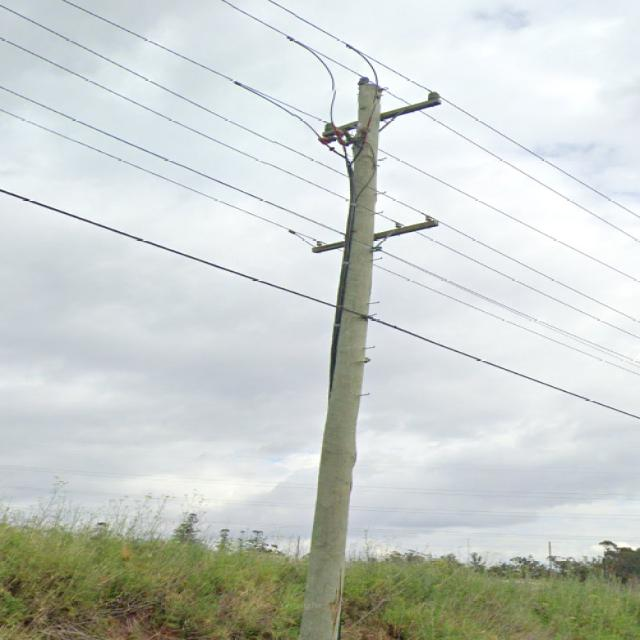HV-transmission: (318, 77, 440, 144)
crossarm: (322, 98, 439, 136), (310, 219, 440, 253)
timber-pole: (298, 82, 380, 640)
